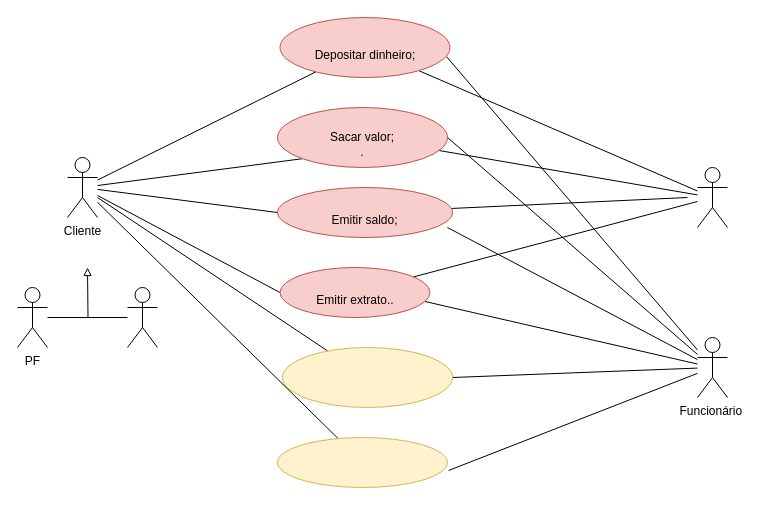
The diagram is 773 pixels wide and 505 high, and some of its shapes have lost their labels. The centre of each missing label's shape, as x and y in pixels:
Abrir conta;: the point at 362,462
Caixa eletrônico: the point at 712,197
Encerrar conta;: the point at 367,377
PJ: the point at 142,317
